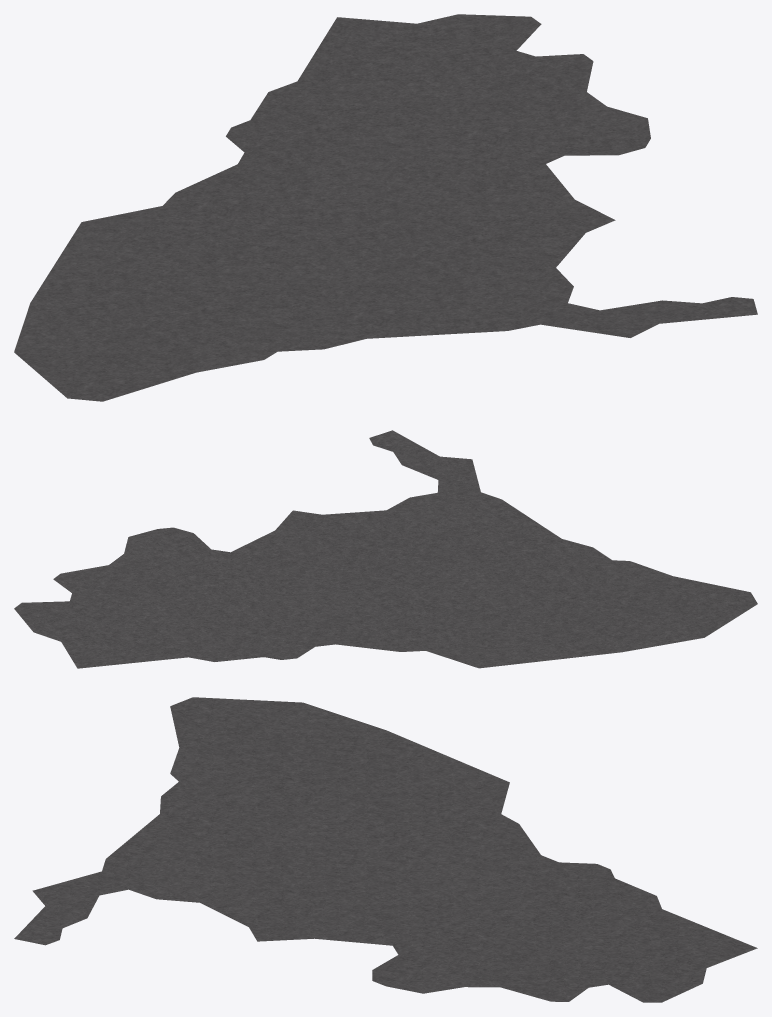
The model's file is road_04.glb.
3 renders of one model, top to bottom at view 1: azimuth 30°, elevation 25°; view 2: azimuth 150°, elevation 25°; view 3: azimuth 270°, elevation 25°, orthographic. The views are drawn at different scales.
Parts seen in each view (by area): view 1: road_04.surface; view 2: road_04.surface; view 3: road_04.surface.
Part boxes in pixels (bbox=[...]): road_04.surface: bbox=[14, 14, 757, 401]; road_04.surface: bbox=[14, 430, 757, 668]; road_04.surface: bbox=[14, 697, 757, 1002].
Bounding box in the file's own units: 8.1 × 0.1725 × 8.1.
1 material, 1 textured.
